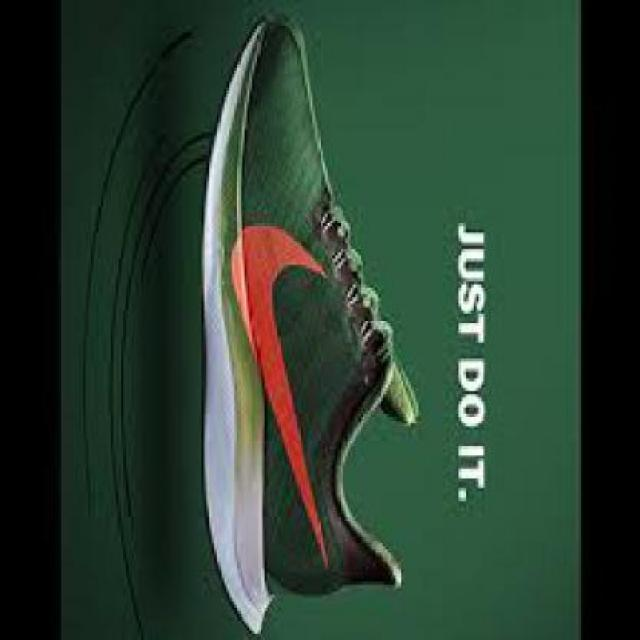Nike: (224, 214, 333, 573)
